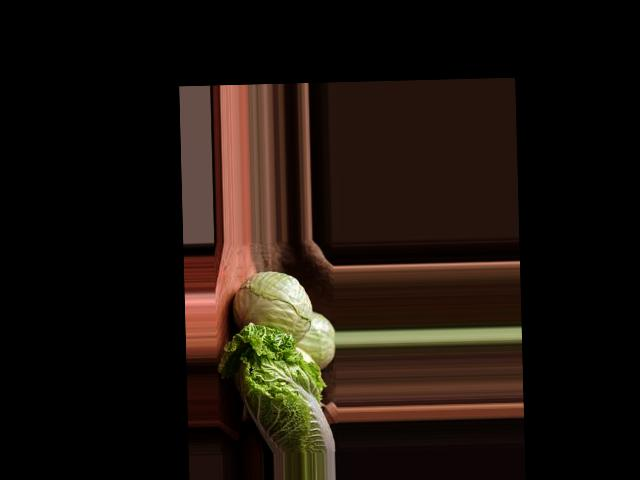lettuce: (210, 333, 320, 436)
